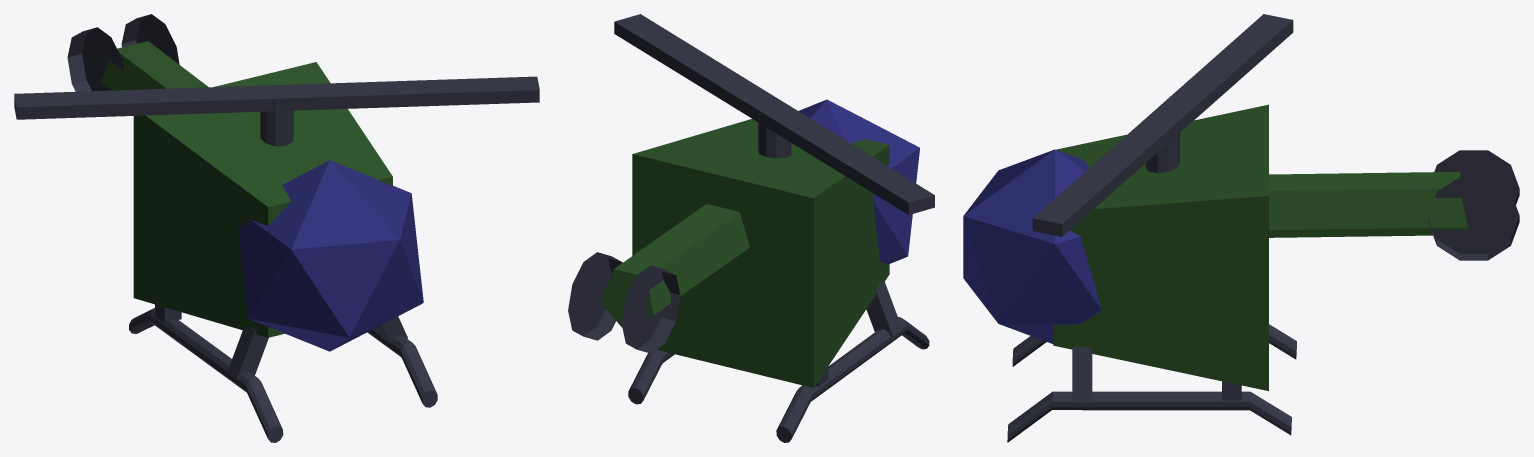
The model's file is heli.fbx.
3 views of the same model, side by side, from view 1: azimuth 30°, elevation 25°; view 2: azimuth 150°, elevation 25°; view 3: azimuth 270°, elevation 25° (orthographic). The views are drawn at different scales.
Parts seen in each view (by area): view 1: Cube; view 2: Cube; view 3: Cube.
Boxes of the visible parts, bbox=[...] form: Cube: bbox=[14, 14, 539, 442]; Cube: bbox=[568, 14, 934, 442]; Cube: bbox=[963, 14, 1519, 442].
Size of the model in its own units: 461 by 291 by 516.
